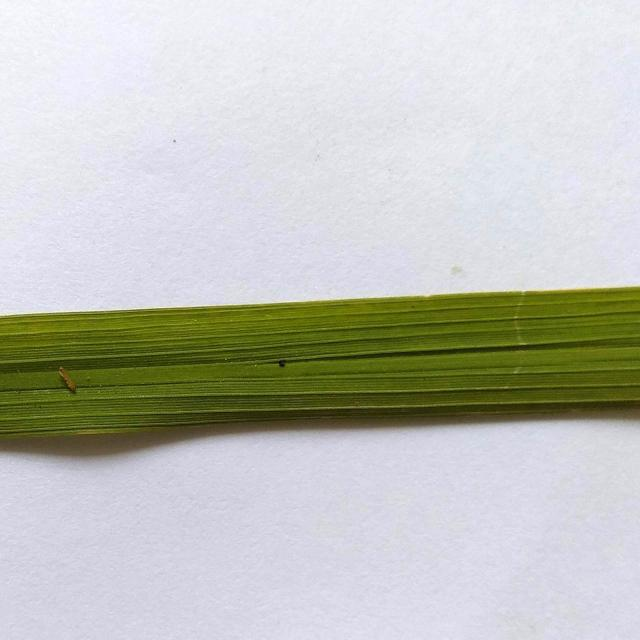healthy: (0, 261, 640, 459)
